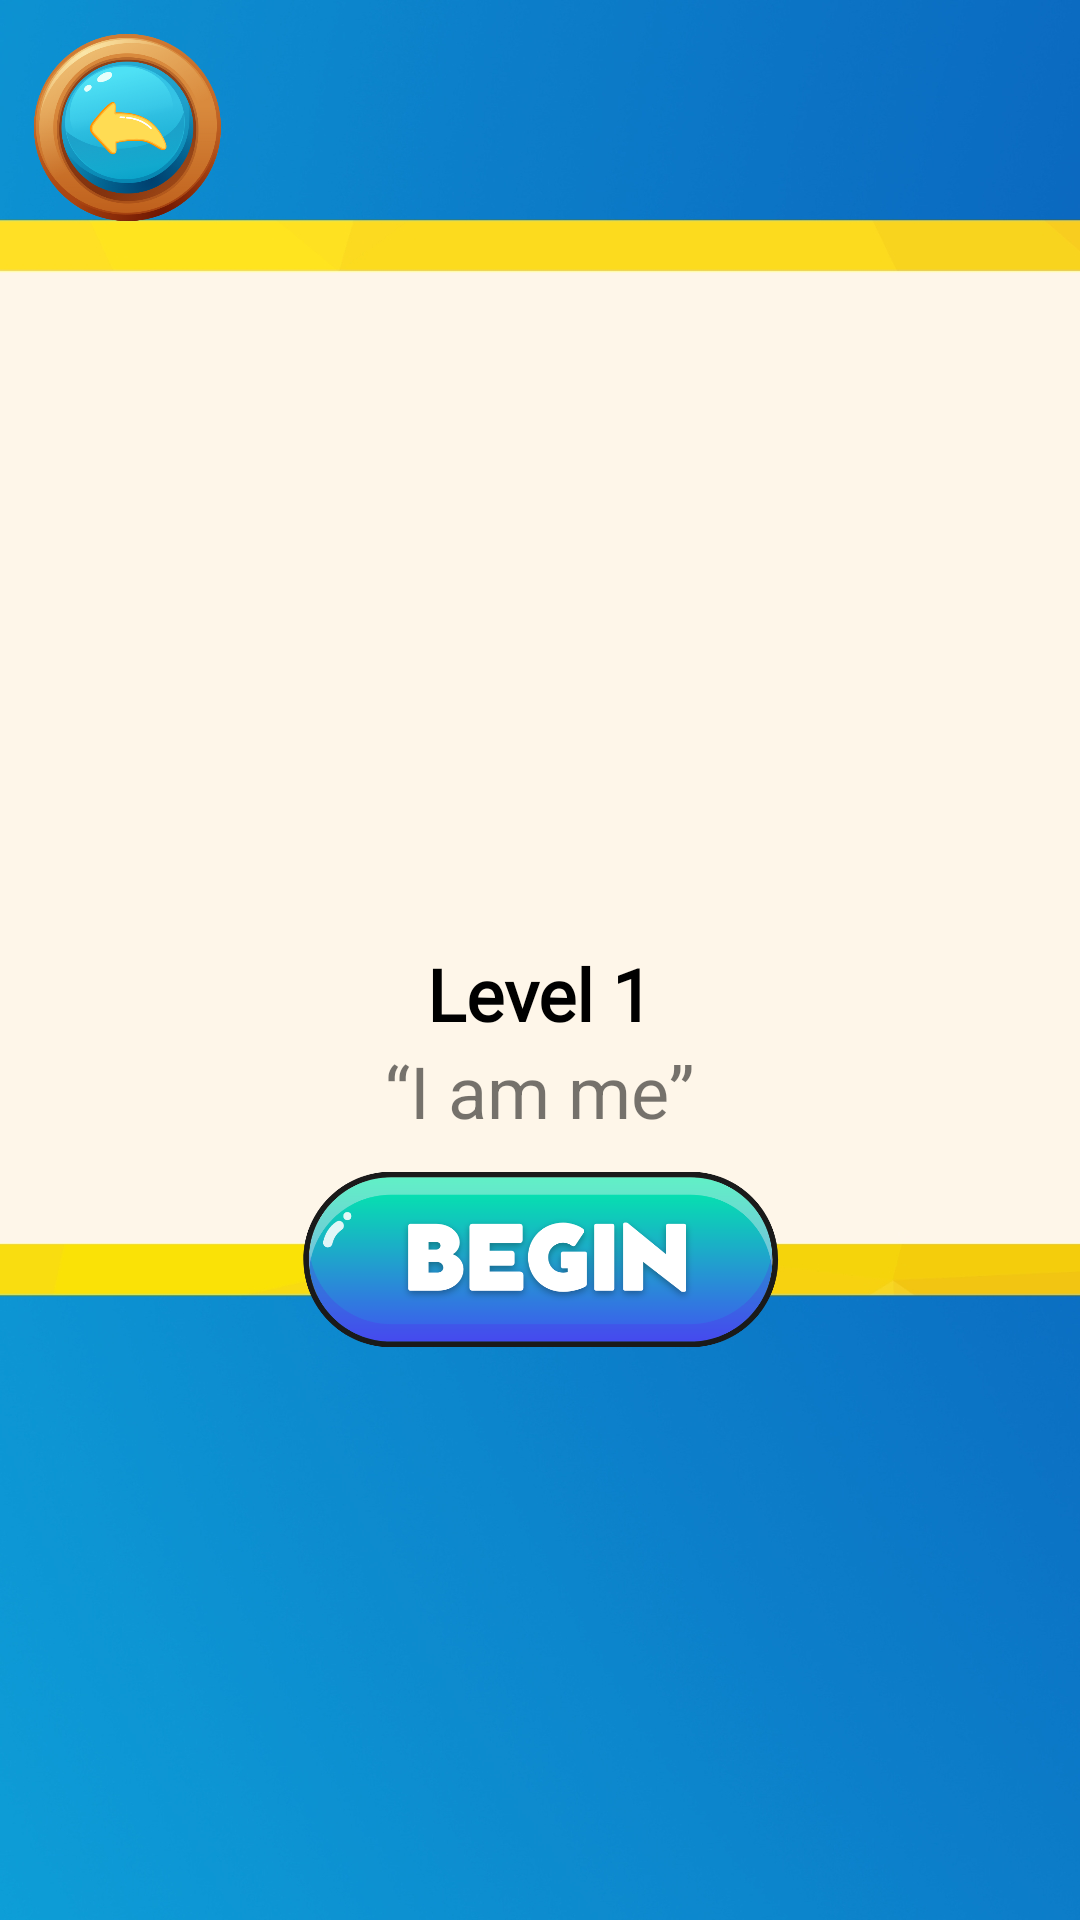

Named icons in this screenshot (1080×1920) and their bounding boxes, (x1, y1, x2, y2):
back: (30, 34, 225, 225)
